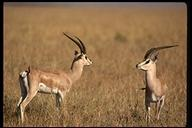antelope: (15, 31, 94, 122), (135, 44, 179, 122)
grass: (87, 10, 183, 42), (87, 72, 142, 127)
